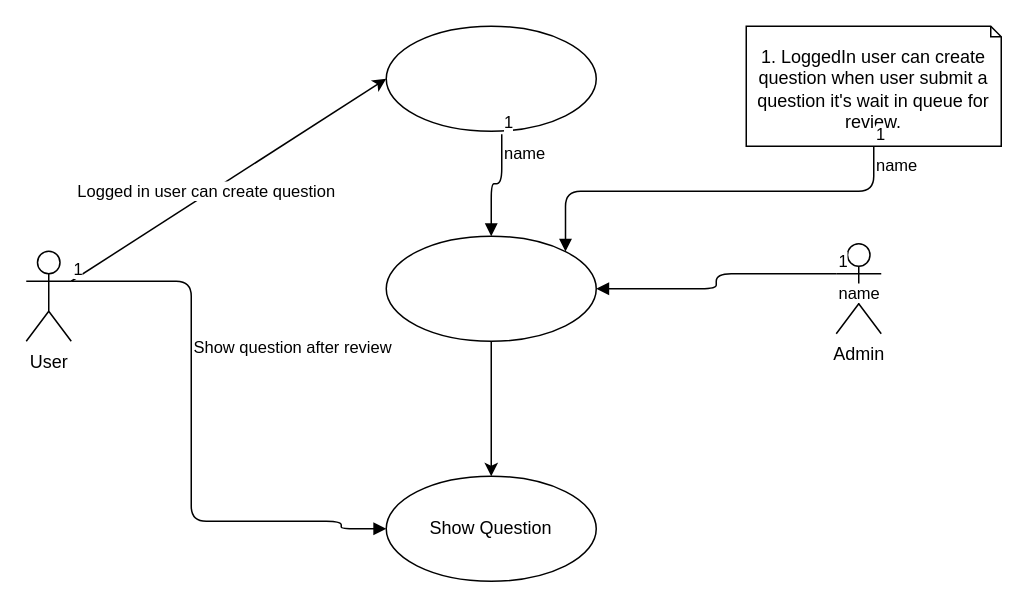
Some shapes in this 1028 by 608 pixel diagram are drawn without their labels. The shapes that lost their labels are listed below. From the top down, each one's centre as x and y in pixels, then its label:
At (490,78): "Create Question".
At (490,288): "Review Question".
